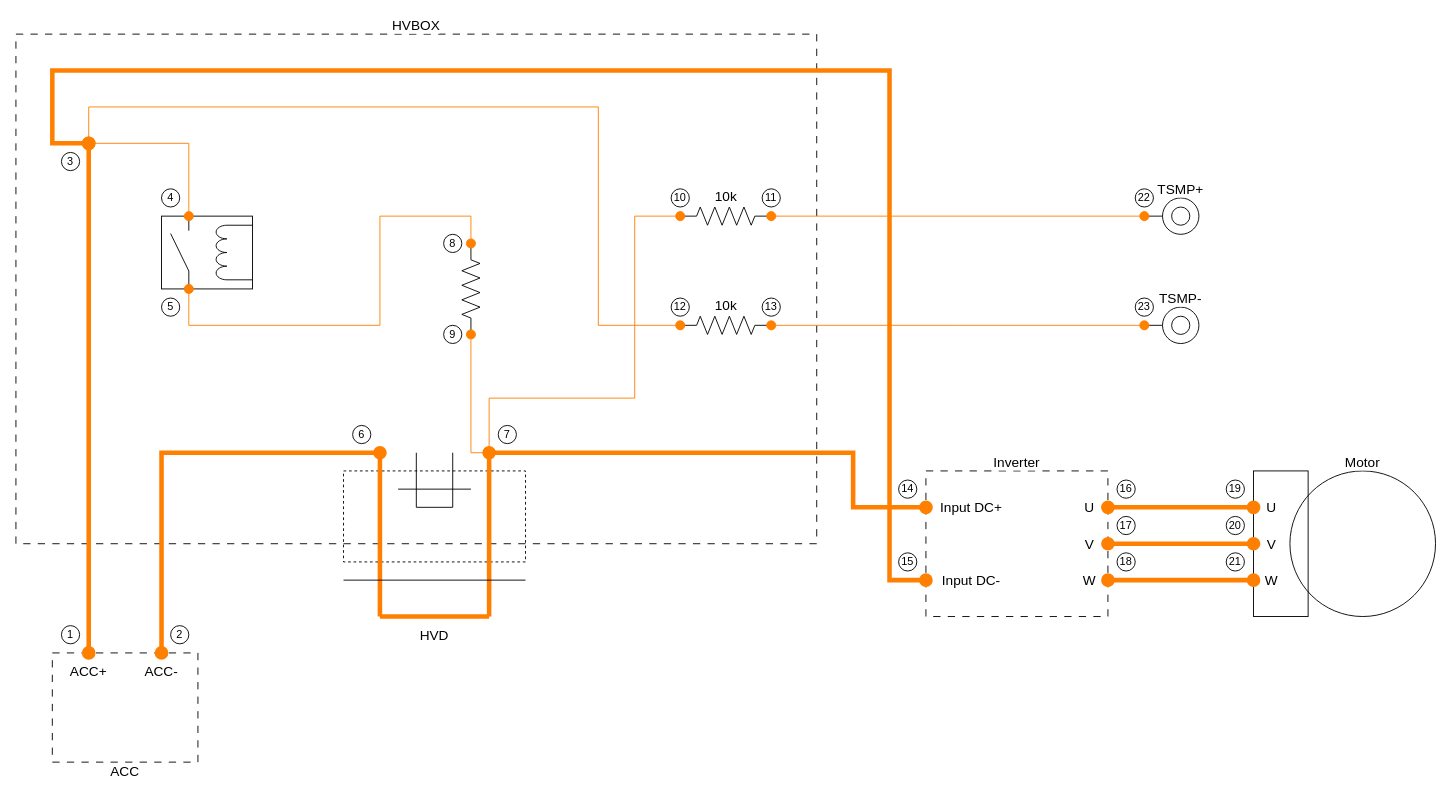
Image size: 1451x795. Some labels were removed from this diagram. The shapes that lost their labels are listed below. From the top down, each one's centre as x and y in pixels, then its label:
At point 470,288: "3.3k".
At point 434,516: "Interlock".
